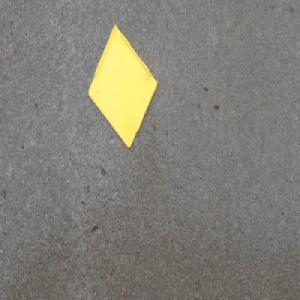PlasticPart: (87, 21, 159, 149)
